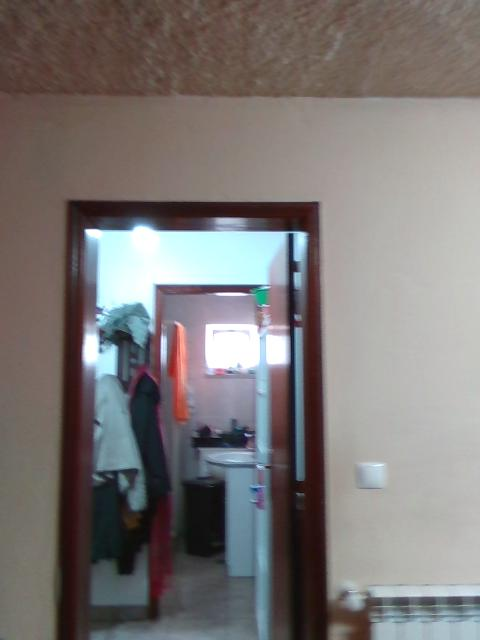open_door: (56, 198, 327, 638)
